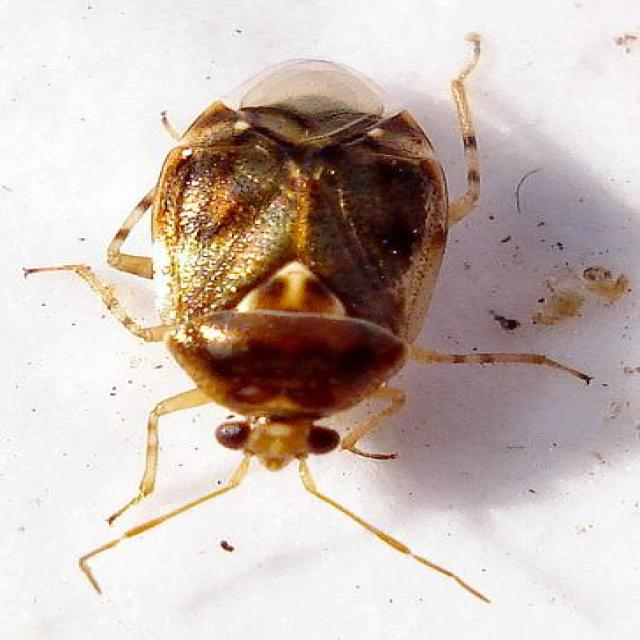Miridae-Adult-: (24, 22, 588, 601)
